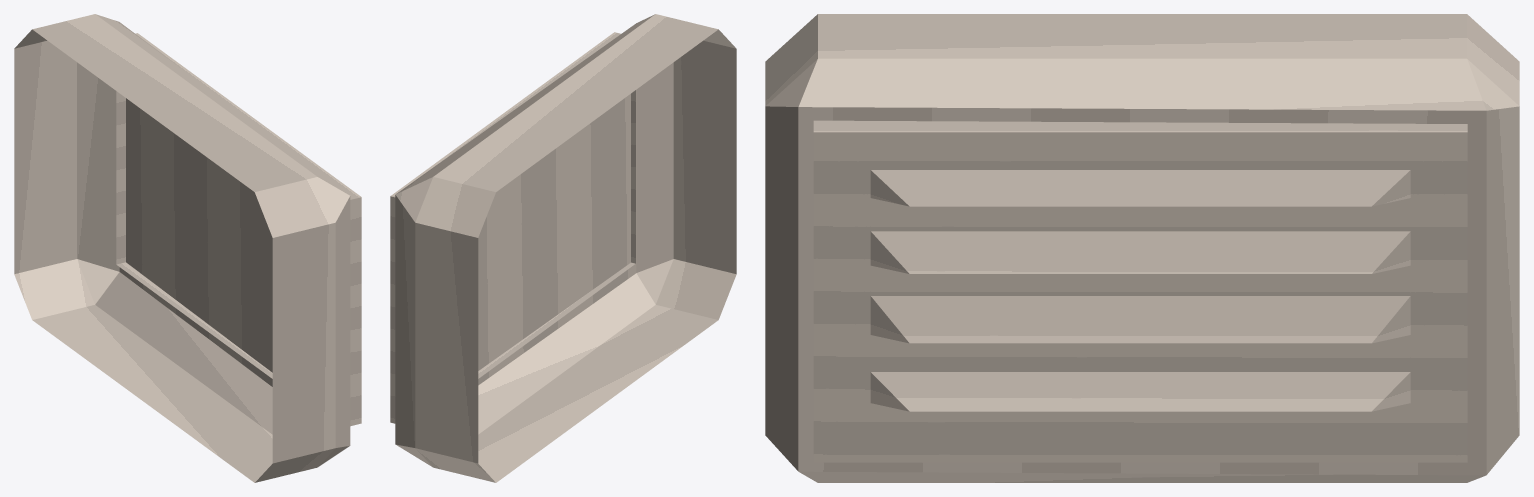
Rendered from Int_Vent.fbx.
3 views of the same model, side by side, from view 1: azimuth 30°, elevation 25°; view 2: azimuth 150°, elevation 25°; view 3: azimuth 270°, elevation 25° (orthographic). The views are drawn at different scales.
Visible parts, largest first — view 1: Vent; view 2: Vent; view 3: Vent.
Part boxes in pixels (bbox=[...]): Vent: bbox=[14, 14, 361, 482]; Vent: bbox=[390, 14, 736, 482]; Vent: bbox=[765, 14, 1519, 482].
Size of the model in its own units: 0.3528 by 0.833 by 1.34.
